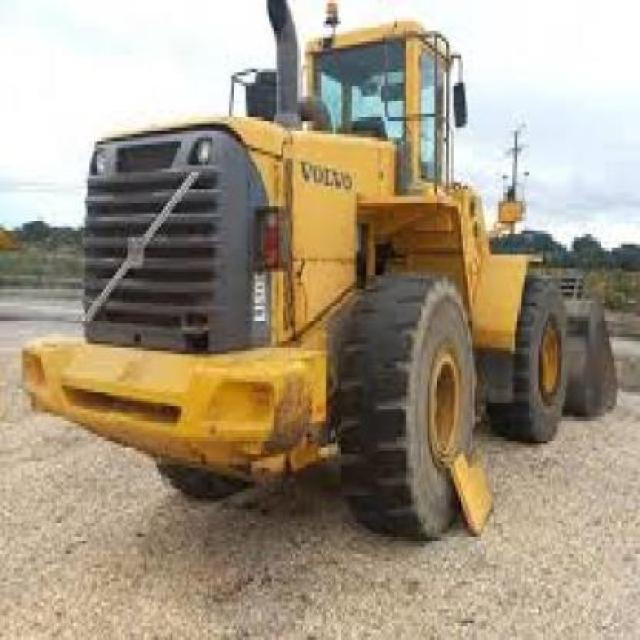buldozerpayloadergrader: (13, 3, 621, 561)
